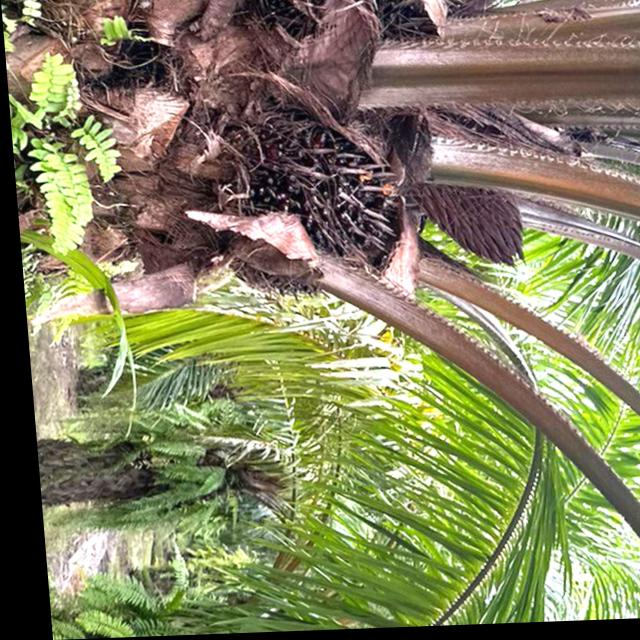ripe: (250, 135, 396, 272)
